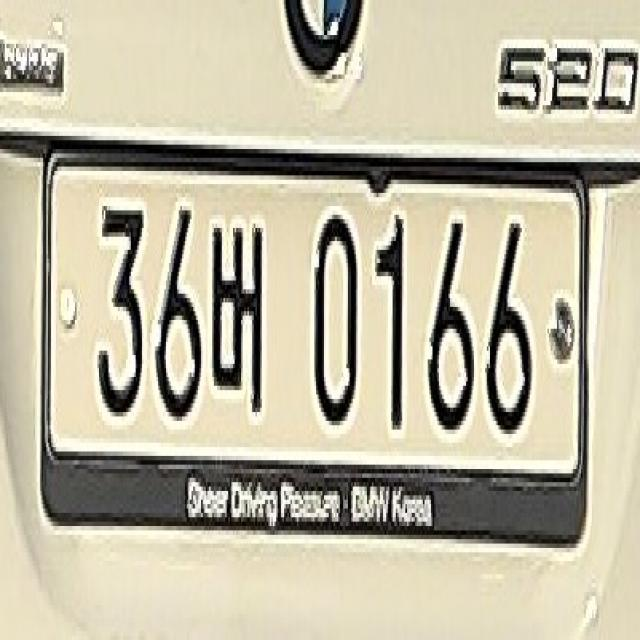0: (310, 206, 360, 430)
1: (372, 210, 408, 434)
3: (99, 202, 148, 420)
6: (484, 215, 533, 438), (428, 211, 476, 438), (153, 202, 201, 420)
beo: (208, 215, 268, 425)
license_plate: (40, 144, 584, 487)
